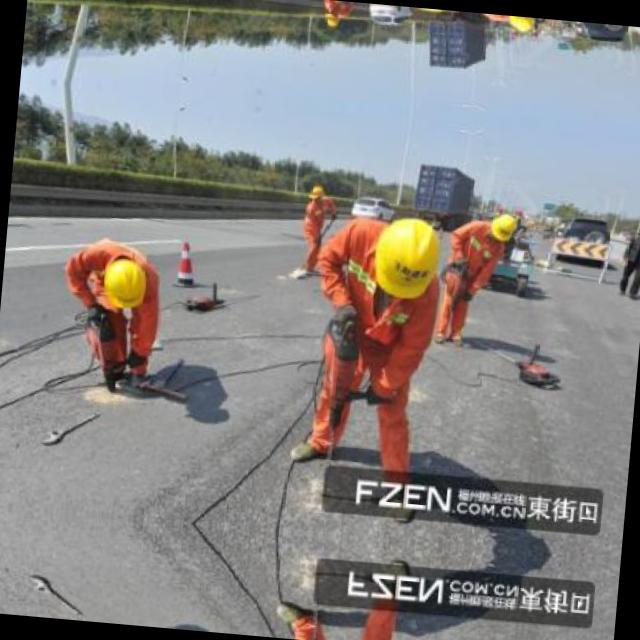helmet: (366, 210, 448, 306), (94, 251, 154, 315), (487, 210, 521, 245), (506, 15, 540, 35), (306, 179, 329, 201), (321, 10, 344, 32)
